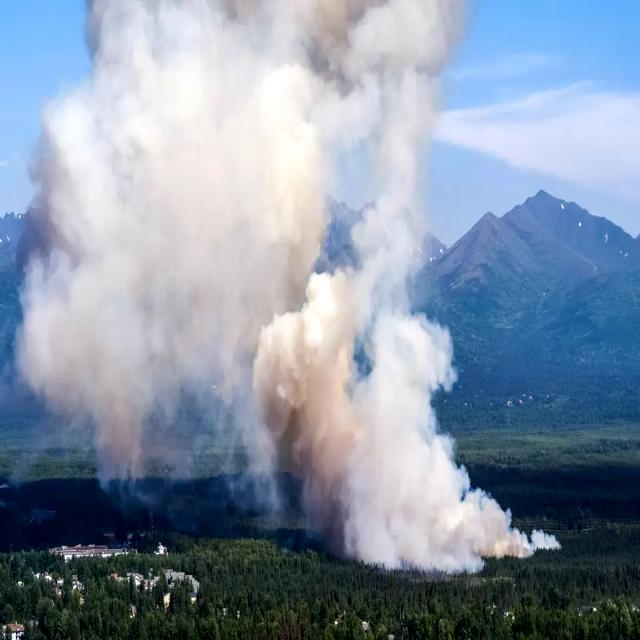Smoke: (17, 0, 536, 576)
